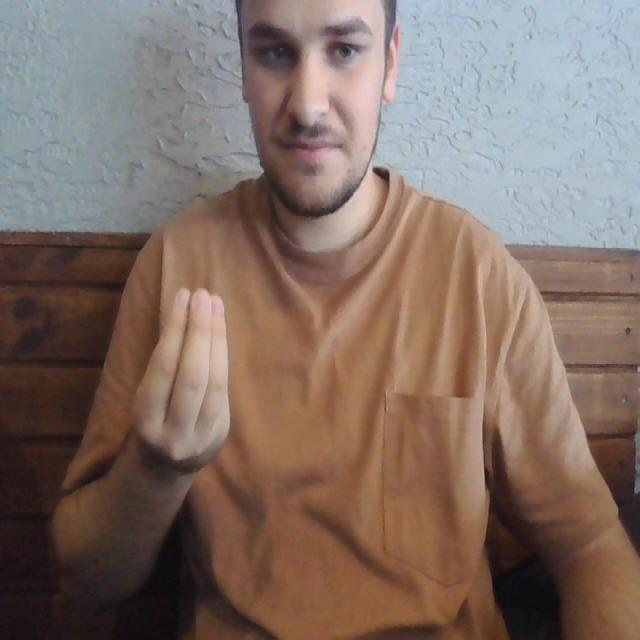iyi: (128, 285, 237, 466)
